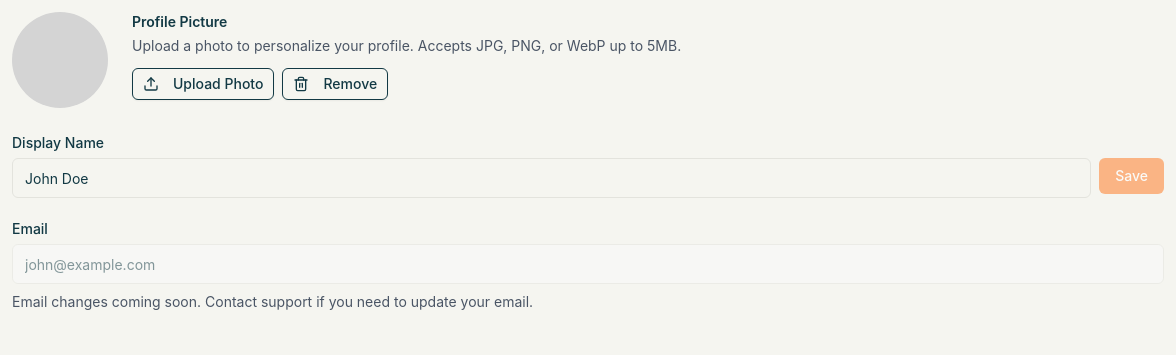
Scenario: ProfileSection › should validate name with minimum length
The image size is (1176, 355).
Replace the text in the field showing "John Doe" with "A" at (552, 178), box [12, 158, 1091, 198]
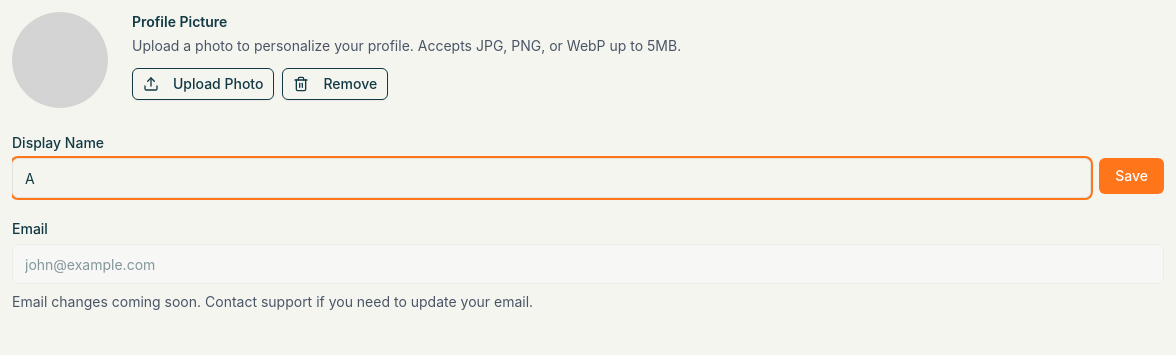
Click the button "Save" at (1132, 176), box [1099, 158, 1164, 194]
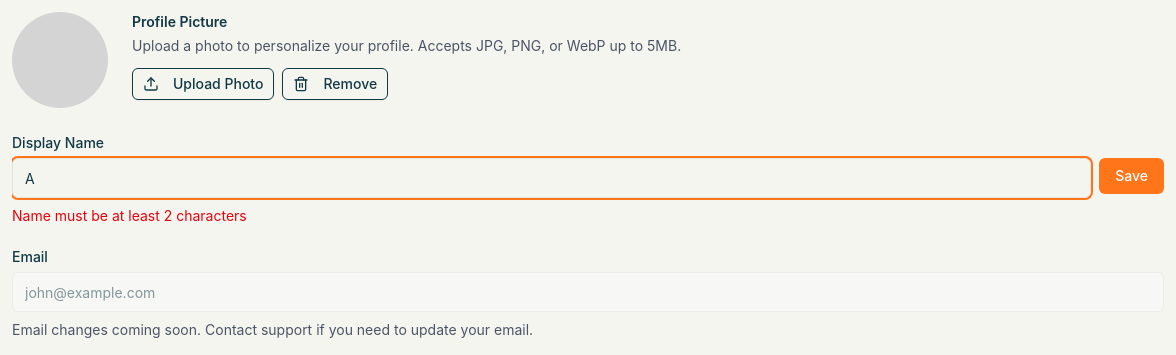
Expected: the text "Name must be at least 2 characters" is shown, [12, 207, 247, 224]
